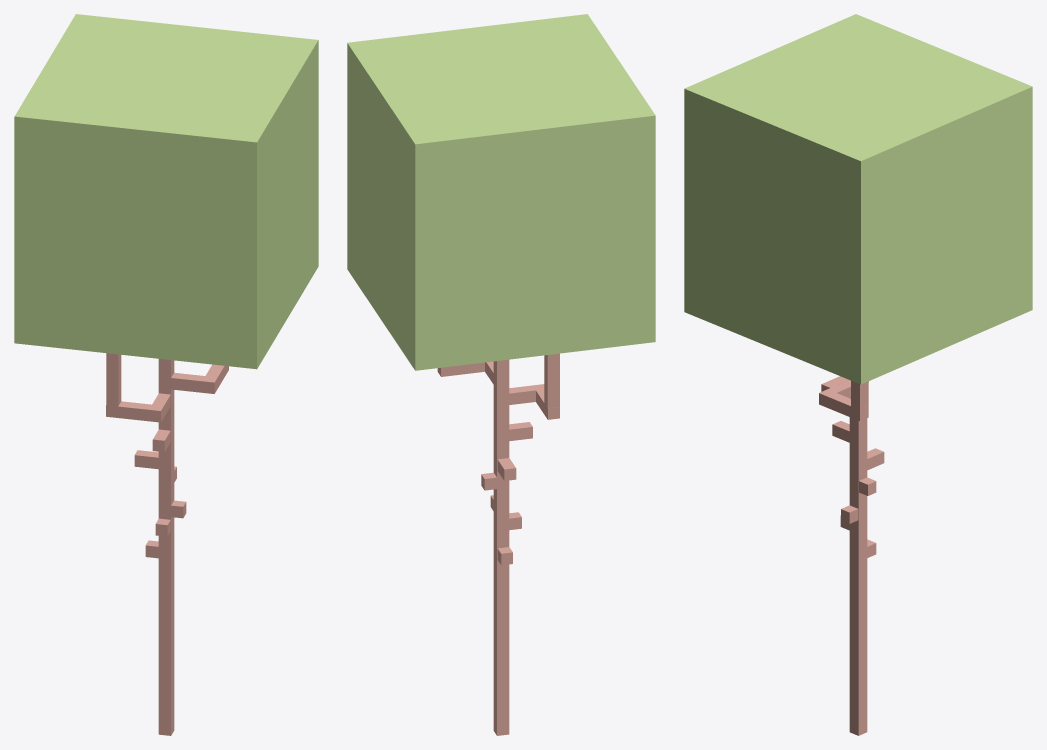
Rendered from TREE2.glb.
3 renders of one model, left to right at view 1: azimuth 30°, elevation 25°; view 2: azimuth 150°, elevation 25°; view 3: azimuth 270°, elevation 25°, orthographic.
Visible parts, largest first — view 1: Cube.013; view 2: Cube.013; view 3: Cube.013.
Part boxes in pixels (bbox=[...]): Cube.013: bbox=[14, 14, 318, 735]; Cube.013: bbox=[347, 14, 655, 735]; Cube.013: bbox=[684, 14, 1032, 735].
Size of the model in its own units: 0.4989 by 1.02 by 0.4989.
